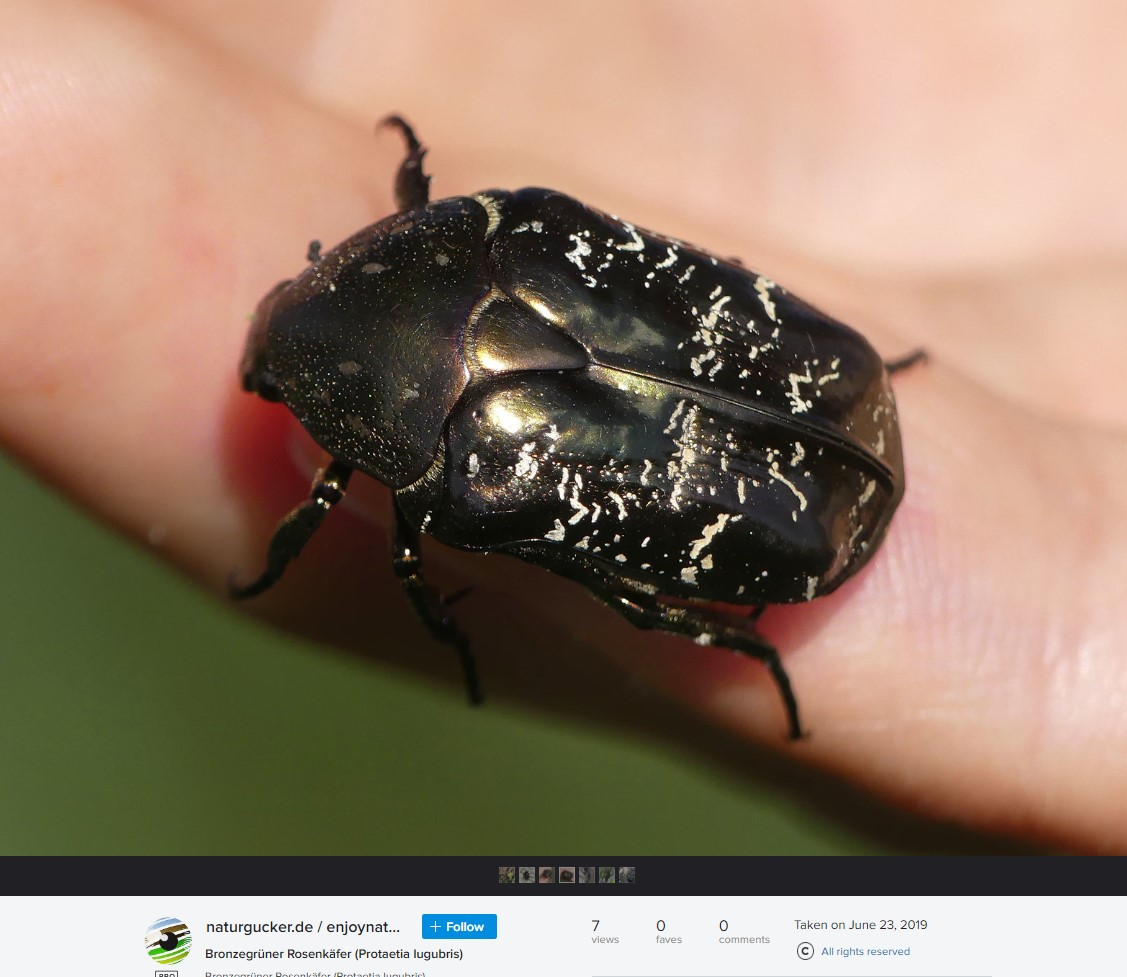Protaetia_lugubris: (231, 104, 939, 767)
